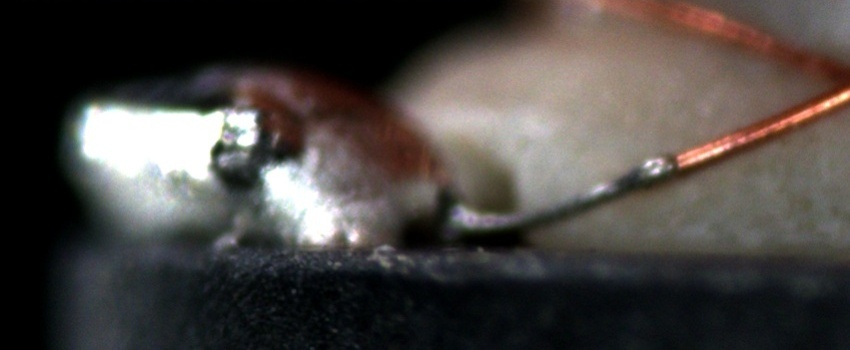TS: (445, 155, 679, 231)
TTCW: (443, 134, 735, 239)
